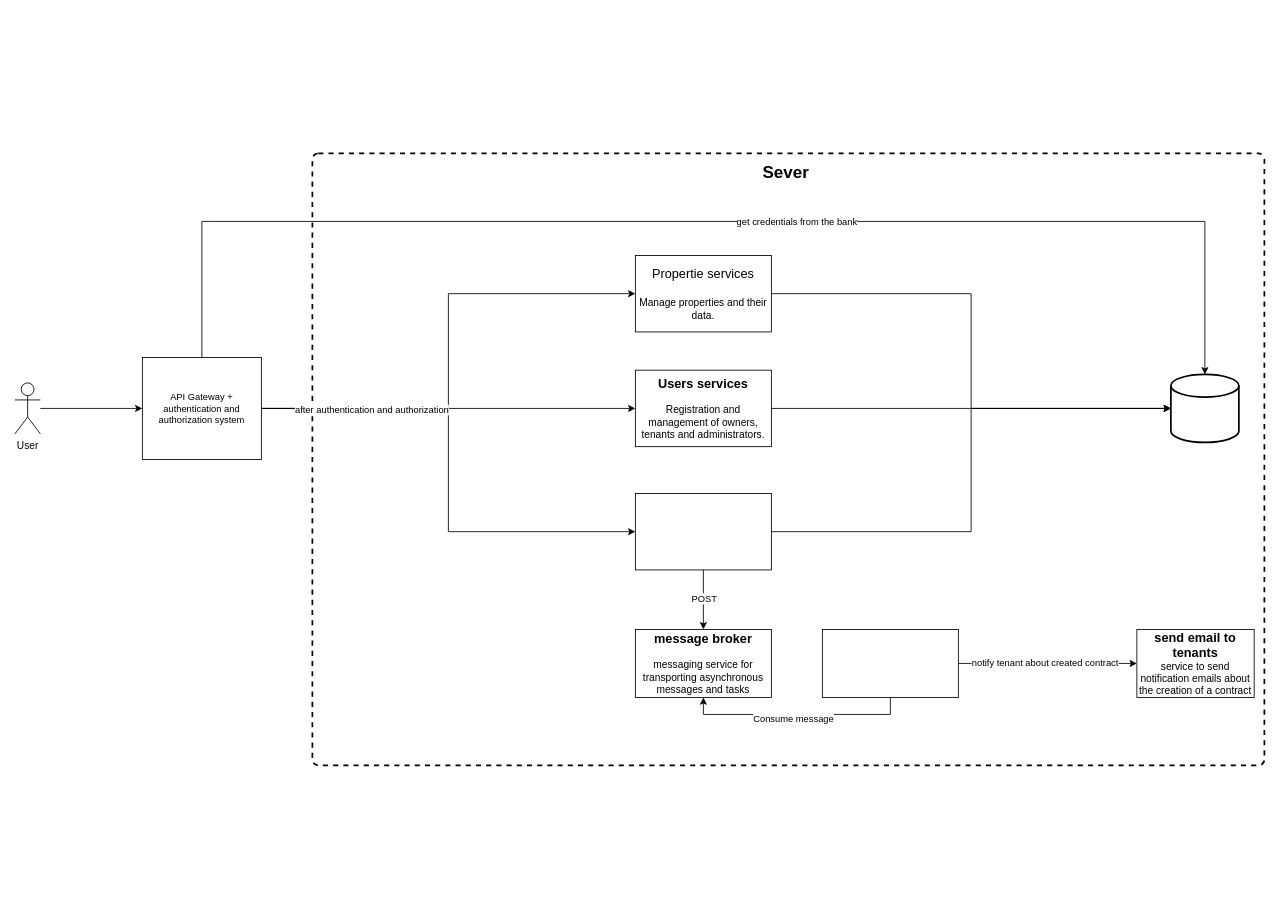
The diagram is 1280 pixels wide and 918 high, and some of its shapes have lost their labels. Here are the shapes that lost their labels. From the top down, the centre of each, then its label:
(x=1204, y=408): SQL
(x=703, y=531): Contract services Deals with the creation and management of rental contracts.
(x=890, y=663): queue worker process of reading the message from the queue
